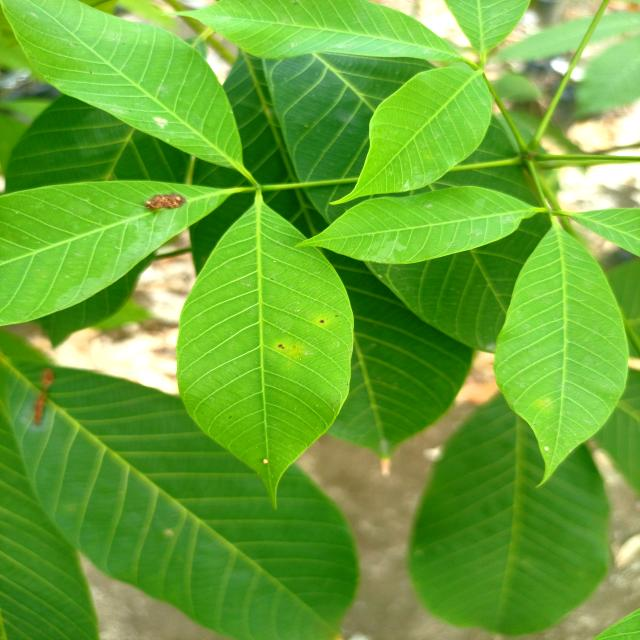Colletotrichum: (278, 344, 282, 348), (319, 320, 324, 323)
